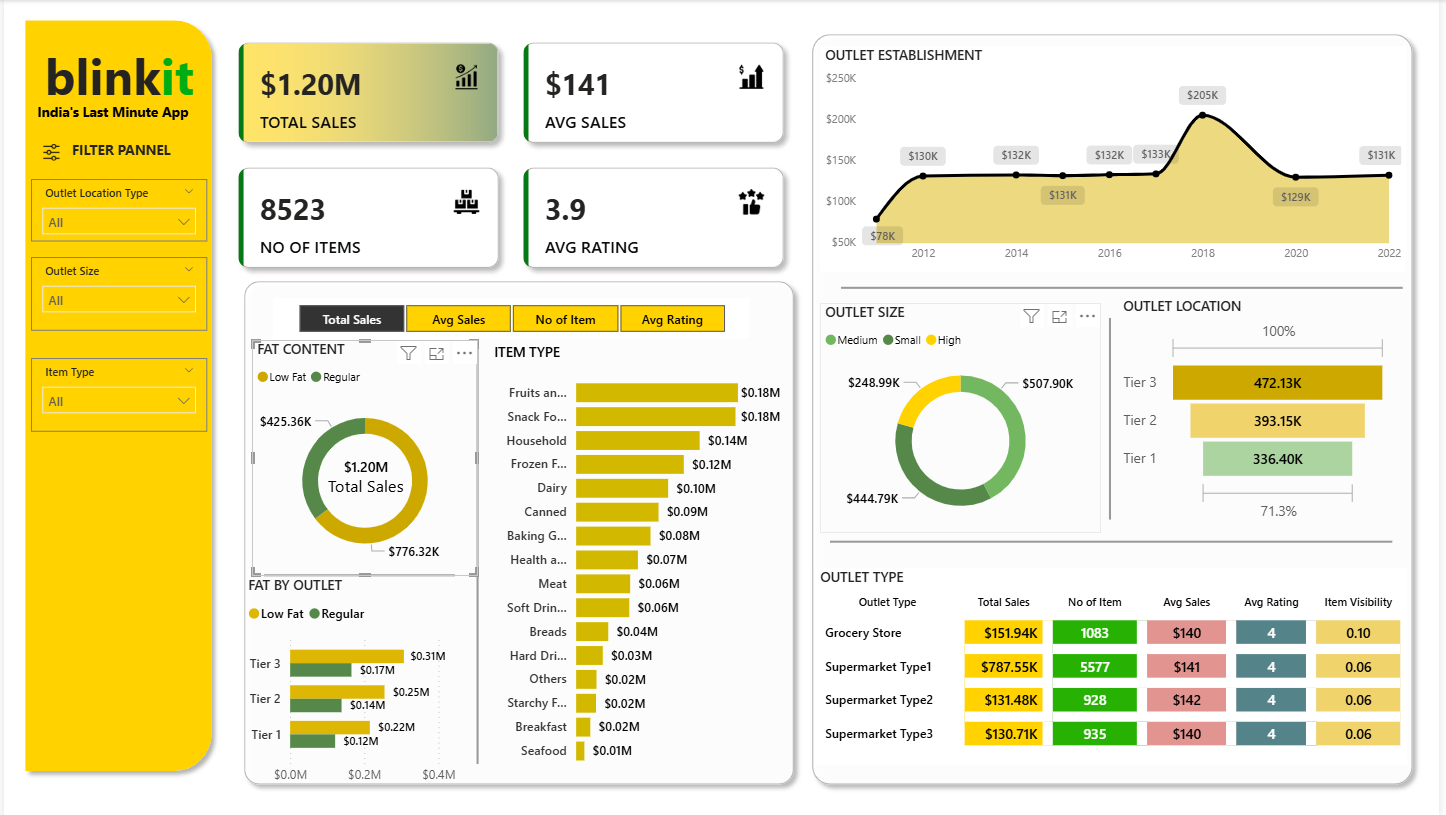

What the dashboard file says about the page in this screenshot:
{"tool":"powerbi","page":{"name":"Page 1","canvas":[1400,800],"ordinal":0},"visuals":[{"type":"shape","box":[12.7,23.4,200,750.2],"z":0},{"type":"textbox","box":[262.8,662.8,200,123.4],"z":1000},{"type":"textbox","box":[263,36,200,627],"z":2000},{"type":"textbox","box":[29.8,36.2,164.9,84],"z":3000},{"type":"textbox","box":[12.8,95.7,187.1,33],"z":4000},{"type":"cardVisual","fields":{"Data":["BlinkIT Grocery Data.Total Sales","BlinkIT Grocery Data.Avg Sales","BlinkIT Grocery Data.No of Item","BlinkIT Grocery Data.Avg Rating"]},"box":[211.7,24.5,567,255.3],"z":5000},{"type":"shape","box":[224.9,265.8,554.2,509],"z":6000},{"type":"donutChart","title":"FAT CONTENT","fields":{"Y":["BlinkIT Grocery Data.Total Sales"],"Category":["BlinkIT Grocery Data.Item Fat Content"]},"box":[242.1,331.4,220.6,230.3],"z":7000},{"type":"slicer","fields":{"Values":["Metrics.Metrics"]},"box":[262.8,290.4,464.9,40.4],"z":8000},{"type":"cardVisual","fields":{"Data":["BlinkIT Grocery Data.Total Sales"]},"box":[279.8,429.4,146.3,64.6],"z":9000},{"type":"clusteredBarChart","title":"FAT BY OUTLET","fields":{"Y":["BlinkIT Grocery Data.Total Sales"],"Category":["BlinkIT Grocery Data.Outlet Location Type"],"Series":["BlinkIT Grocery Data.Item Fat Content"]},"box":[233.5,561.7,219.5,212],"z":10000},{"type":"shape","box":[254,542.4,186.2,37.7],"z":11000},{"type":"shape","box":[450.9,339,22.6,406.8],"z":12000},{"type":"barChart","title":"ITEM TYPE","fields":{"Y":["BlinkIT Grocery Data.Total Sales"],"Category":["BlinkIT Grocery Data.Item Type"]},"box":[473.5,334.7,289.5,421.8],"z":13000},{"type":"shape","box":[779.1,24.8,603.7,750],"z":14000},{"type":"lineChart","title":"OUTLET ESTABLISHMENT","fields":{"Y":["BlinkIT Grocery Data.Total Sales"],"Category":["BlinkIT Grocery Data.Outlet Establishment Year"]},"box":[795.7,45.2,572,220.4],"z":15000},{"type":"shape","box":[805.8,519.8,548.5,17],"z":16000},{"type":"donutChart","title":"OUTLET SIZE","fields":{"Y":["BlinkIT Grocery Data.Total Sales"],"Category":["BlinkIT Grocery Data.Outlet Size"]},"box":[796.2,295.5,274.3,224.3],"z":17000},{"type":"shape","box":[1067.3,310.4,23.4,196.7],"z":18000},{"type":"funnel","title":"OUTLET LOCATION","fields":{"Y":["Sum(BlinkIT Grocery Data.Sales)"],"Category":["BlinkIT Grocery Data.Outlet Location Type"]},"box":[1086.4,290.2,267.9,224.3],"z":19000},{"type":"shape","box":[816.5,272.4,548.4,17.2],"z":20000},{"type":"pivotTable","title":"OUTLET TYPE","fields":{"Rows":["BlinkIT Grocery Data.Outlet Type"],"Values":["BlinkIT Grocery Data.Total Sales","BlinkIT Grocery Data.No of Item","BlinkIT Grocery Data.Avg Sales","BlinkIT Grocery Data.Avg Rating","Avg(BlinkIT Grocery Data.Item Visibility)"]},"box":[790.9,553.8,578.3,192.4],"z":21000},{"type":"slicer","fields":{"Values":["BlinkIT Grocery Data.Outlet Location Type"]},"box":[26.6,174.3,172.2,60.6],"z":22000},{"type":"slicer","fields":{"Values":["BlinkIT Grocery Data.Outlet Size"]},"box":[26.6,250.9,172.2,72.3],"z":23000},{"type":"slicer","fields":{"Values":["BlinkIT Grocery Data.Item Type"]},"box":[26.6,349.7,172.2,72.3],"z":24000},{"type":"textbox","box":[42.5,132.9,127.6,28.7],"z":25000},{"type":"image","box":[29.8,136.1,31.9,25.5],"z":26000}]}

Visuals, with their boxes in screenshot pixels (x1, y1, x2, y2), scaled from the page's 1400x800 canvas onto the 1446x815 screenshot:
shape: 13,24,220,788
textbox: 271,675,478,801
textbox: 272,37,478,675
textbox: 31,37,201,122
textbox: 13,97,206,131
cardVisual - BlinkIT Grocery Data.Total Sales x BlinkIT Grocery Data.Avg Sales: 219,25,804,285
shape: 232,271,805,789
"FAT CONTENT" donutChart: 250,338,478,572
slicer - Metrics.Metrics: 271,296,752,337
cardVisual - BlinkIT Grocery Data.Total Sales: 289,437,440,503
"FAT BY OUTLET" clusteredBarChart: 241,572,468,788
shape: 262,553,455,591
shape: 466,345,489,760
"ITEM TYPE" barChart: 489,341,788,771
shape: 805,25,1428,789
"OUTLET ESTABLISHMENT" lineChart: 822,46,1413,271
shape: 832,530,1399,547
"OUTLET SIZE" donutChart: 822,301,1106,530
shape: 1102,316,1127,517
"OUTLET LOCATION" funnel: 1122,296,1399,524
shape: 843,278,1410,295
"OUTLET TYPE" pivotTable: 817,564,1414,760
slicer - BlinkIT Grocery Data.Outlet Location Type: 27,178,205,239
slicer - BlinkIT Grocery Data.Outlet Size: 27,256,205,329
slicer - BlinkIT Grocery Data.Item Type: 27,356,205,430
textbox: 44,135,176,165
image: 31,139,64,165
